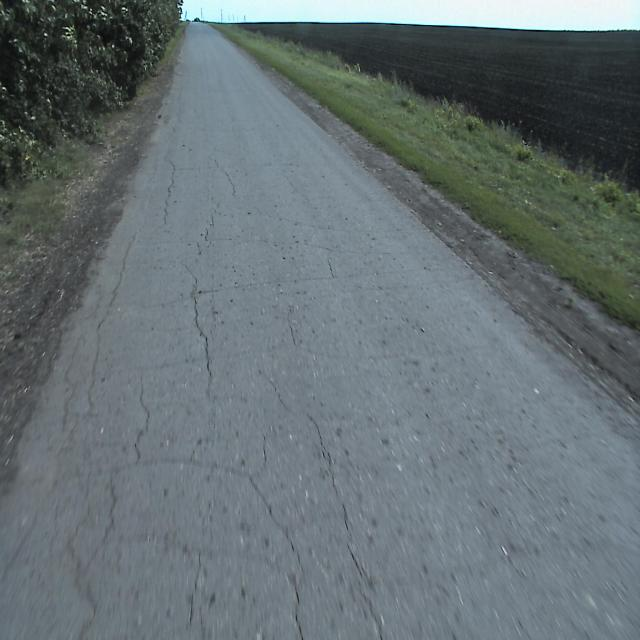road: (0, 22, 640, 639)
